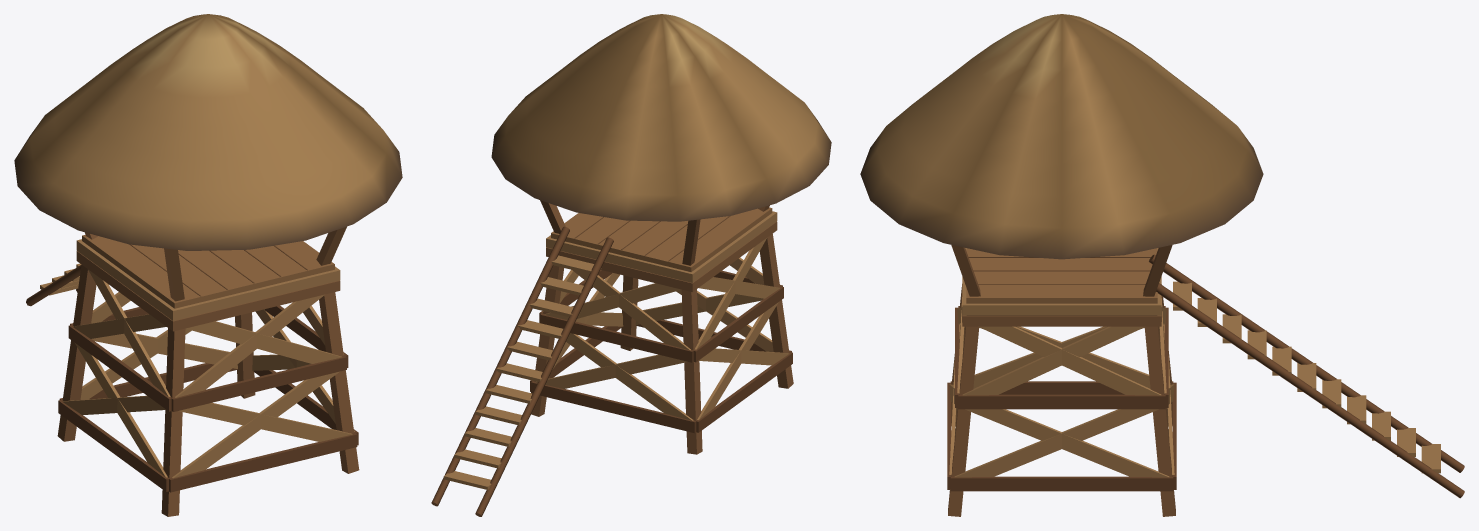
The model's file is stage.glb.
The picture shows the model from 3 angles, left to right: view 1: azimuth 30°, elevation 25°; view 2: azimuth 150°, elevation 25°; view 3: azimuth 270°, elevation 25°; orthographic projection. The views are drawn at different scales.
Visible parts, largest first — view 1: stage; view 2: stage; view 3: stage.
Boxes of the visible parts, <box> form: stage: <box>14,14,402,516</box>; stage: <box>431,14,831,516</box>; stage: <box>860,14,1464,516</box>.
Bounding box in the file's own units: 6.75 × 8.42 × 10.12.
